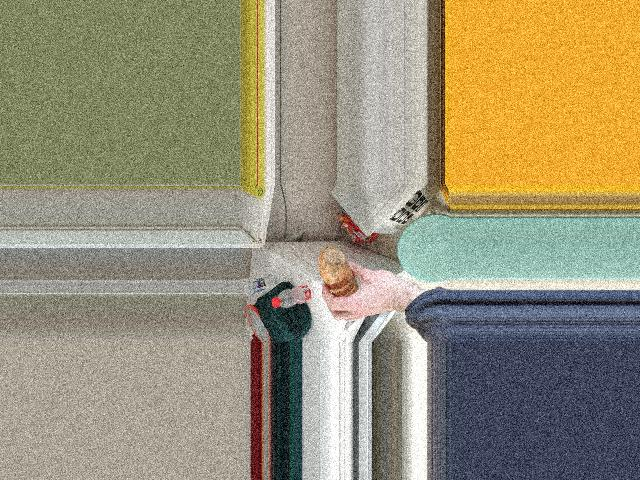sweet_potato: (318, 256, 357, 296)
